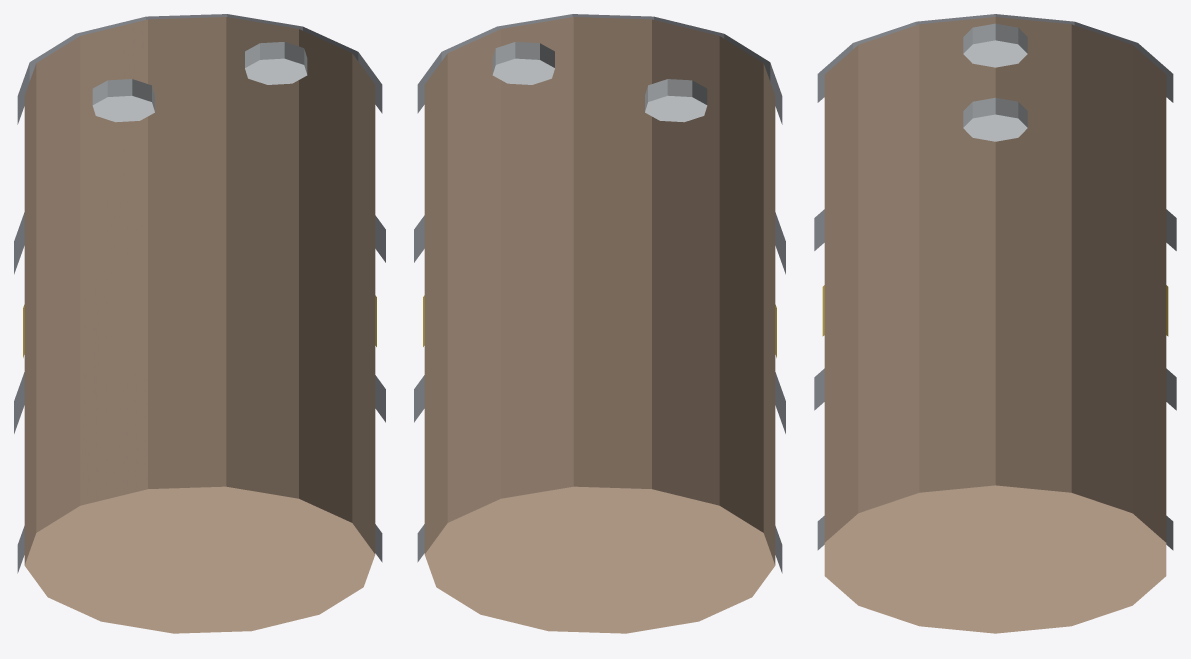
The model's file is prop_drum.glb.
3 renders of one model, left to right at view 1: azimuth 30°, elevation 25°; view 2: azimuth 150°, elevation 25°; view 3: azimuth 270°, elevation 25°, orthographic.
Visible parts, largest first — view 1: prop_drum; view 2: prop_drum; view 3: prop_drum.
Boxes of the visible parts, x1,y1,x2,y2 form: prop_drum: [14, 14, 385, 633]; prop_drum: [414, 14, 785, 633]; prop_drum: [814, 14, 1176, 633].
Bounding box in the file's own units: 0.4028 × 0.59 × 0.3927.
